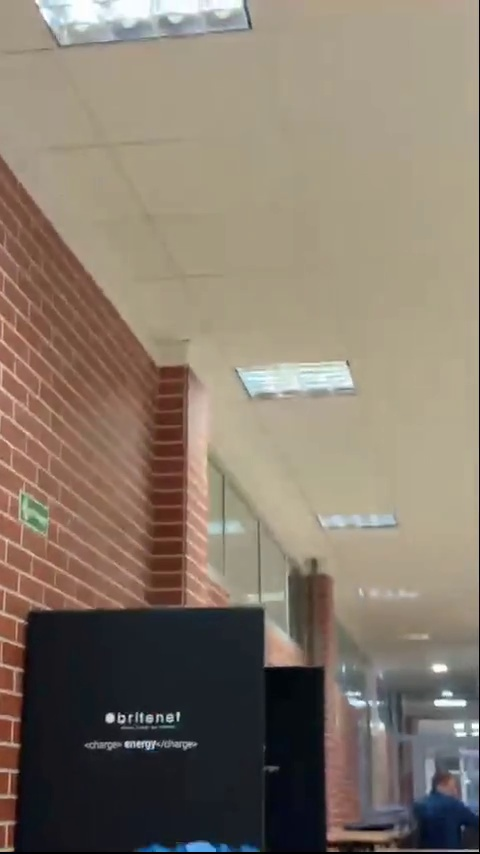drone: (141, 833, 272, 854)
no vest: (408, 772, 472, 844)
